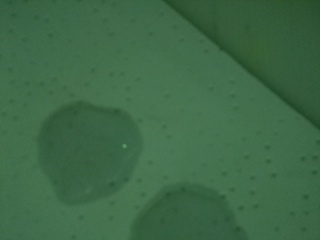Water_detected: (52, 112, 133, 185), (149, 192, 213, 240)
